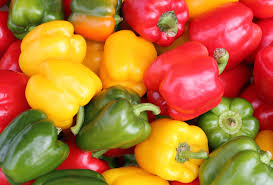bell pepper: (141, 38, 235, 123), (78, 84, 163, 155), (21, 57, 97, 121), (139, 115, 209, 180), (98, 28, 157, 105), (5, 105, 65, 180), (17, 21, 89, 72), (197, 99, 265, 151), (199, 136, 273, 183), (62, 1, 132, 45), (122, 1, 192, 42), (9, 1, 69, 32)
